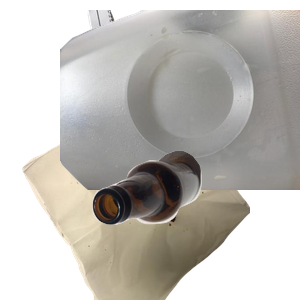glass: (90, 148, 300, 300)
paper: (85, 10, 224, 190)
plastic: (60, 10, 300, 190)
trash: (20, 120, 260, 300)
